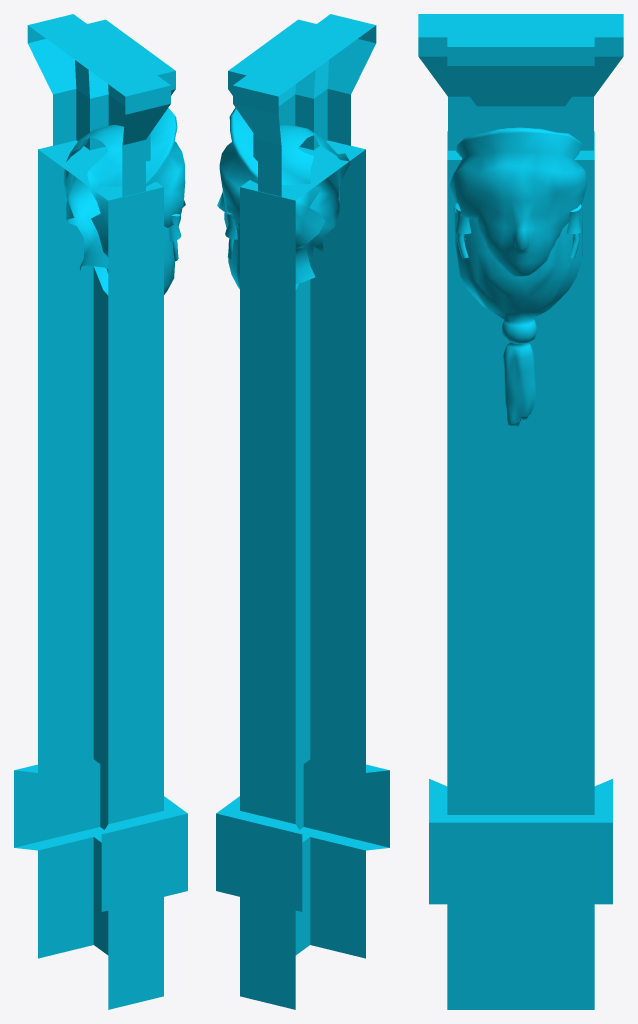
File: Pillar_Relief.FBX
The picture shows the model from 3 angles, left to right: view 1: azimuth 30°, elevation 25°; view 2: azimuth 150°, elevation 25°; view 3: azimuth 270°, elevation 25°; orthographic projection. The views are drawn at different scales.
Visible parts, largest first — view 1: Box107; view 2: Box107; view 3: Box107.
Boxes of the visible parts, bbox=[...] form: Box107: bbox=[14, 14, 187, 1009]; Box107: bbox=[216, 14, 389, 1009]; Box107: bbox=[418, 14, 623, 1009].
Size of the model in its own units: 44.82 by 308 by 59.01.
